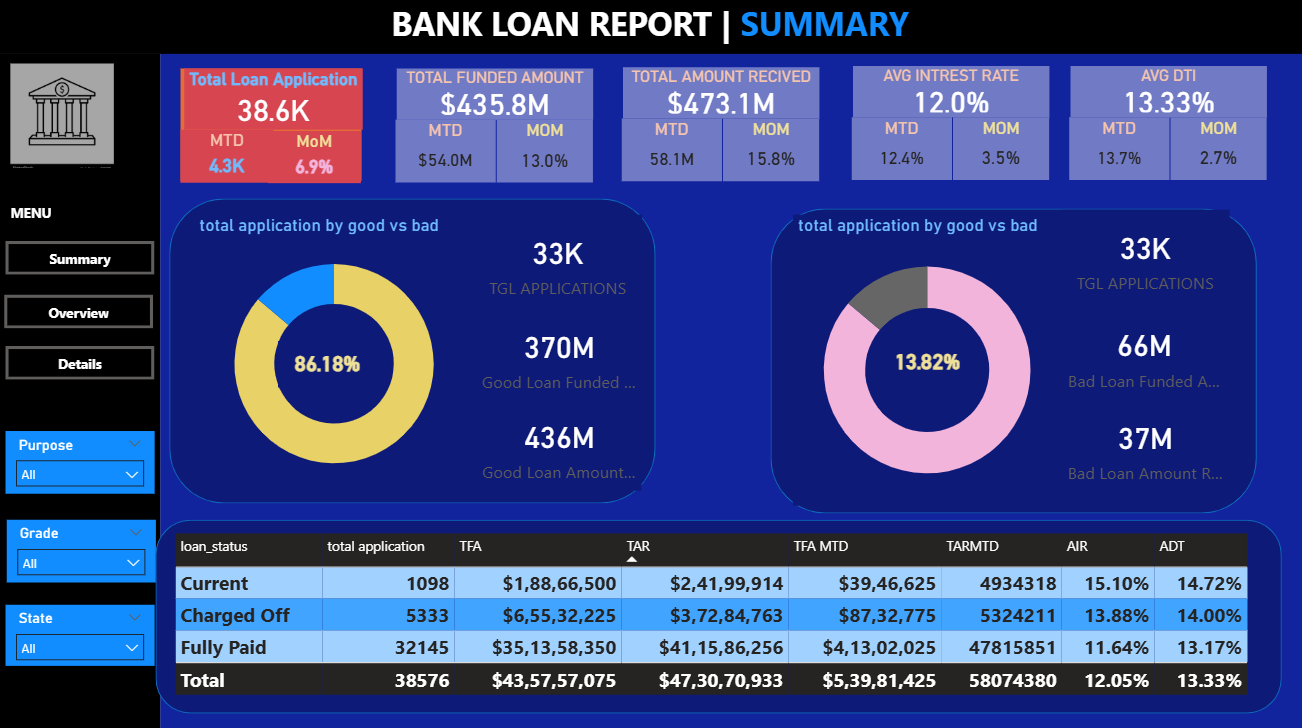

Layout of this report page (visuals, bound fields, positions):
{"tool":"powerbi","page":{"name":"SUMMARY","canvas":[1280,720],"ordinal":0},"visuals":[{"type":"card","title":"MTD","fields":{"Values":["Measure Table.MTD application"]},"box":[179.1,131.1,91,51.8],"z":0,"group":"g1"},{"type":"shape","box":[758.3,208.6,477.3,299.4],"z":0},{"type":"card","title":"MoM","fields":{"Values":["Measure Table.MOM"]},"box":[265.3,132,90.8,50.9],"z":1000,"group":"g1"},{"type":"shape","box":[168.1,198.8,477.3,299.4],"z":1000},{"type":"shape","box":[0,56.4,159.5,663.8],"z":2000},{"type":"card","title":"Total Loan Application","fields":{"Values":["Measure Table.total application"]},"box":[182.2,71.2,175.2,60.1],"z":2000,"group":"g1"},{"type":"group","id":"g1","title":"Group 1","box":[179.1,71.2,177.9,110.4],"z":3000},{"type":"textbox","box":[0,0,1279.8,56.4],"z":4000},{"type":"image","box":[5,66,116,102],"z":5000},{"type":"slicer","fields":{"Values":["financial_loan.purpose"]},"box":[7.4,427,146,61.4],"z":6000},{"type":"slicer","fields":{"Values":["financial_loan.grade"]},"box":[8.6,514.1,146,61.4],"z":7000},{"type":"slicer","title":"S","fields":{"Values":["financial_loan.address_state"]},"box":[7.4,597.5,146,60.1],"z":8000},{"type":"actionButton","box":[7.4,240.5,146,33.1],"z":9000},{"type":"actionButton","box":[6.1,293.3,146,33.1],"z":10000},{"type":"card","title":"AVG INTREST RATE","fields":{"Values":["Measure Table.AIR"]},"box":[839.2,68.7,192.6,50.4],"z":11000,"group":"g4"},{"type":"card","title":"AVG DTI","fields":{"Values":["Measure Table.ADT"]},"box":[1052.7,68.7,192.6,50.4],"z":11000,"group":"g5"},{"type":"card","title":"TOTAL AMOUNT RECIVED","fields":{"Values":["Measure Table.TAR"]},"box":[613.5,69.9,192.6,50.4],"z":11000,"group":"g3"},{"type":"card","title":"TOTAL FUNDED AMOUNT","fields":{"Values":["Measure Table.TFA"]},"box":[391.4,71.2,192.6,50.4],"z":11000,"group":"g2"},{"type":"actionButton","box":[7.4,343.6,146,33.1],"z":11000},{"type":"card","title":"MTD","fields":{"Values":["Measure Table.AIR MTD"]},"box":[838,118.8,98.2,61.4],"z":12000,"group":"g4"},{"type":"card","title":"MTD","fields":{"Values":["Measure Table.ADT MTD"]},"box":[1051.5,118.8,98.2,61.4],"z":12000,"group":"g5"},{"type":"card","title":"MTD","fields":{"Values":["Measure Table.TARMTD"]},"box":[612.3,120,98.2,61.4],"z":12000,"group":"g3"},{"type":"card","title":"MTD","fields":{"Values":["Measure Table.TFA MTD"]},"box":[390.2,121.3,98.2,61.4],"z":12000,"group":"g2"},{"type":"textbox","box":[7.4,198.8,50.3,30.7],"z":12000},{"type":"group","id":"g2","title":"Group 2","box":[390.2,71.2,193.9,111.7],"z":13000},{"type":"card","title":"MOM","fields":{"Values":["Measure Table.AIR MOM"]},"box":[937.1,118.8,94.5,61.4],"z":13000,"group":"g4"},{"type":"card","title":"MOM","fields":{"Values":["Measure Table.ADT MOM"]},"box":[1150.6,118.8,94.5,61.4],"z":13000,"group":"g5"},{"type":"card","title":"MOM","fields":{"Values":["Measure Table.TAR MOM"]},"box":[711.4,120,94.5,61.4],"z":13000,"group":"g3"},{"type":"card","title":"MOM","fields":{"Values":["Measure Table.TFA MOM"]},"box":[489.3,121.3,94.5,61.4],"z":13000,"group":"g2"},{"type":"group","id":"g3","title":"Group 2","box":[612.3,69.9,193.9,111.7],"z":14000},{"type":"group","id":"g4","title":"Group 2","box":[838,68.7,193.9,111.7],"z":15000},{"type":"group","id":"g5","title":"Group 2","box":[1051.5,68.7,193.9,111.7],"z":16000},{"type":"shape","box":[154.6,514.1,1105.5,190.2],"z":17000},{"type":"donutChart","fields":{"Y":["Measure Table.total application"],"Category":["financial_loan.loan_status (groups)"]},"box":[192.6,214.7,274.8,273.6],"z":18000},{"type":"tableEx","fields":{"Values":["financial_loan.loan_status","Measure Table.total application","Measure Table.TFA","Measure Table.TAR","Measure Table.TFA MTD","Measure Table.TARMTD","Measure Table.AIR","Measure Table.ADT"]},"box":[168.1,522.7,1077.3,171.8],"z":19000},{"type":"donutChart","fields":{"Y":["Measure Table.total application"],"Category":["financial_loan.loan_status (groups)"]},"box":[780.4,214.7,263.8,285.9],"z":20000},{"type":"card","fields":{"Values":["Measure Table.GL PERCENTAGE"]},"box":[274.8,338.7,96.9,45.4],"z":21000},{"type":"card","fields":{"Values":["Measure Table.TGL APPLICATIONS"]},"box":[467.5,214.7,164.4,94.5],"z":22000},{"type":"card","fields":{"Values":["Measure Table.Good Loan Funded Amount"]},"box":[469.9,309.2,162,90.8],"z":23000},{"type":"card","fields":{"Values":["Measure Table.Good Loan Amount Recived"]},"box":[469.9,400,162,85.9],"z":24000},{"type":"card","fields":{"Values":["Measure Table.TGL APPLICATIONS"]},"box":[1044.2,209.8,164.4,94.5],"z":25000},{"type":"card","fields":{"Values":["Measure Table.Bad Loan Funded Amount"]},"box":[1043,305.5,164.4,94.5],"z":26000},{"type":"card","fields":{"Values":["Measure Table.Bad Loan Amount Recived"]},"box":[1044.2,396.3,164.4,94.5],"z":27000},{"type":"card","fields":{"Values":["Measure Table.BL PERCENTAGE"]},"box":[874.9,336.2,74.8,45.4],"z":28000}]}

Visuals, with their boxes in screenshot pixels (x1, y1, x2, y2), scaled from the page's 1280x720 canvas onto the 1302x728 screenshot:
"MTD" card: [x1=182, y1=133, x2=275, y2=185]
shape: [x1=771, y1=211, x2=1257, y2=514]
"MoM" card: [x1=270, y1=133, x2=362, y2=185]
shape: [x1=171, y1=201, x2=656, y2=504]
shape: [x1=0, y1=57, x2=162, y2=727]
"Total Loan Application" card: [x1=185, y1=72, x2=364, y2=133]
"Group 1" group: [x1=182, y1=72, x2=363, y2=184]
textbox: [x1=0, y1=0, x2=1301, y2=57]
image: [x1=5, y1=67, x2=123, y2=170]
slicer - financial_loan.purpose: [x1=8, y1=432, x2=156, y2=494]
slicer - financial_loan.grade: [x1=9, y1=520, x2=157, y2=582]
"S" slicer: [x1=8, y1=604, x2=156, y2=665]
actionButton: [x1=8, y1=243, x2=156, y2=277]
actionButton: [x1=6, y1=297, x2=155, y2=330]
"AVG INTREST RATE" card: [x1=854, y1=69, x2=1050, y2=120]
"AVG DTI" card: [x1=1071, y1=69, x2=1267, y2=120]
"TOTAL AMOUNT RECIVED" card: [x1=624, y1=71, x2=820, y2=122]
"TOTAL FUNDED AMOUNT" card: [x1=398, y1=72, x2=594, y2=123]
actionButton: [x1=8, y1=347, x2=156, y2=381]
"MTD" card: [x1=852, y1=120, x2=952, y2=182]
"MTD" card: [x1=1070, y1=120, x2=1169, y2=182]
"MTD" card: [x1=623, y1=121, x2=723, y2=183]
"MTD" card: [x1=397, y1=123, x2=497, y2=185]
textbox: [x1=8, y1=201, x2=59, y2=232]
"Group 2" group: [x1=397, y1=72, x2=594, y2=185]
"MOM" card: [x1=953, y1=120, x2=1049, y2=182]
"MOM" card: [x1=1170, y1=120, x2=1267, y2=182]
"MOM" card: [x1=724, y1=121, x2=820, y2=183]
"MOM" card: [x1=498, y1=123, x2=594, y2=185]
"Group 2" group: [x1=623, y1=71, x2=820, y2=184]
"Group 2" group: [x1=852, y1=69, x2=1050, y2=182]
"Group 2" group: [x1=1070, y1=69, x2=1267, y2=182]
shape: [x1=157, y1=520, x2=1282, y2=712]
donutChart - Measure Table.total application x financial_loan.loan_status (groups): [x1=196, y1=217, x2=475, y2=494]
tableEx - financial_loan.loan_status x Measure Table.total application: [x1=171, y1=529, x2=1267, y2=702]
donutChart - Measure Table.total application x financial_loan.loan_status (groups): [x1=794, y1=217, x2=1062, y2=506]
card - Measure Table.GL PERCENTAGE: [x1=280, y1=342, x2=378, y2=388]
card - Measure Table.TGL APPLICATIONS: [x1=476, y1=217, x2=643, y2=313]
card - Measure Table.Good Loan Funded Amount: [x1=478, y1=313, x2=643, y2=404]
card - Measure Table.Good Loan Amount Recived: [x1=478, y1=404, x2=643, y2=491]
card - Measure Table.TGL APPLICATIONS: [x1=1062, y1=212, x2=1229, y2=308]
card - Measure Table.Bad Loan Funded Amount: [x1=1061, y1=309, x2=1228, y2=404]
card - Measure Table.Bad Loan Amount Recived: [x1=1062, y1=401, x2=1229, y2=496]
card - Measure Table.BL PERCENTAGE: [x1=890, y1=340, x2=966, y2=386]
